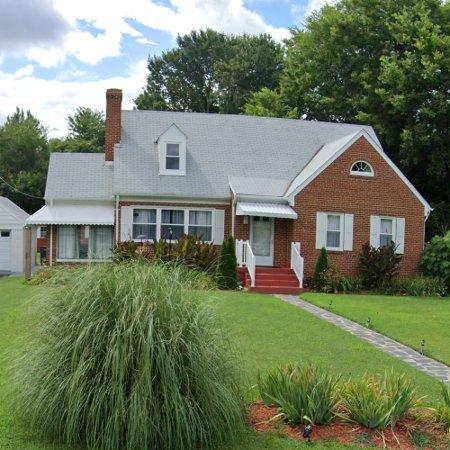chimneys: (105, 88, 122, 161)
stairs: (252, 269, 304, 294)
